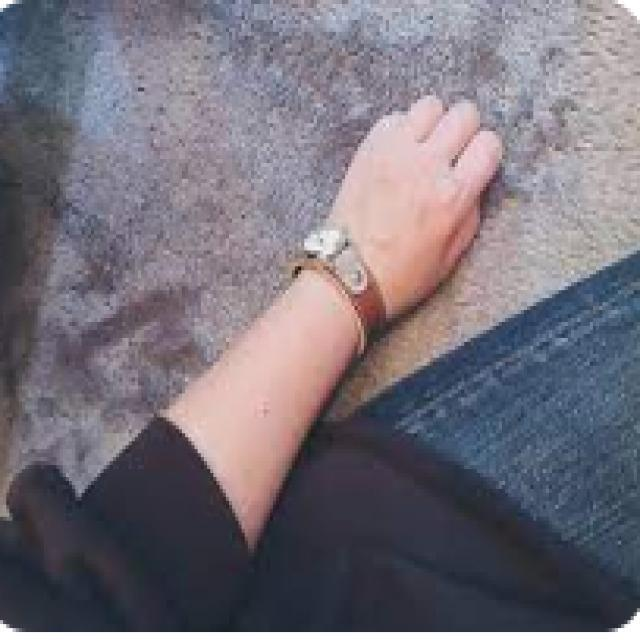Watch: (290, 220, 393, 353)
